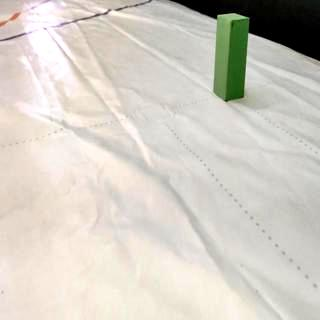greenbox: (214, 13, 250, 102)
